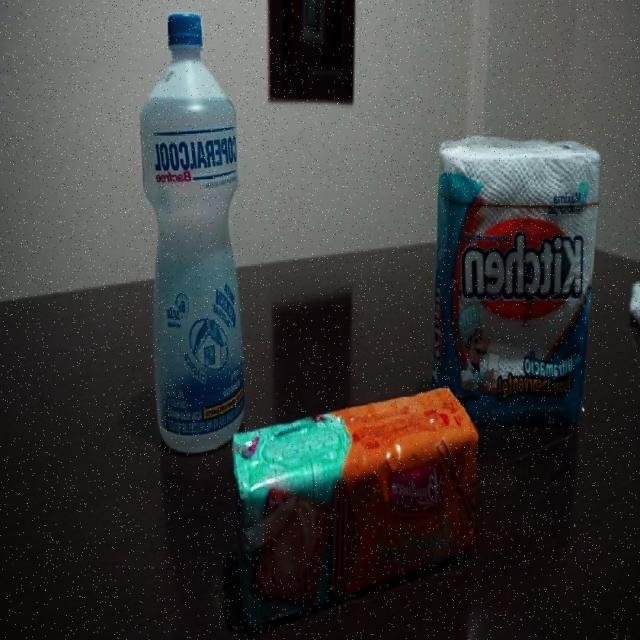AlcoholBottle: (140, 12, 246, 456)
Cracker: (231, 386, 479, 630)
Napkin: (428, 136, 600, 432)
